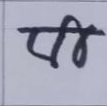i_matra: (64, 15, 86, 67)
